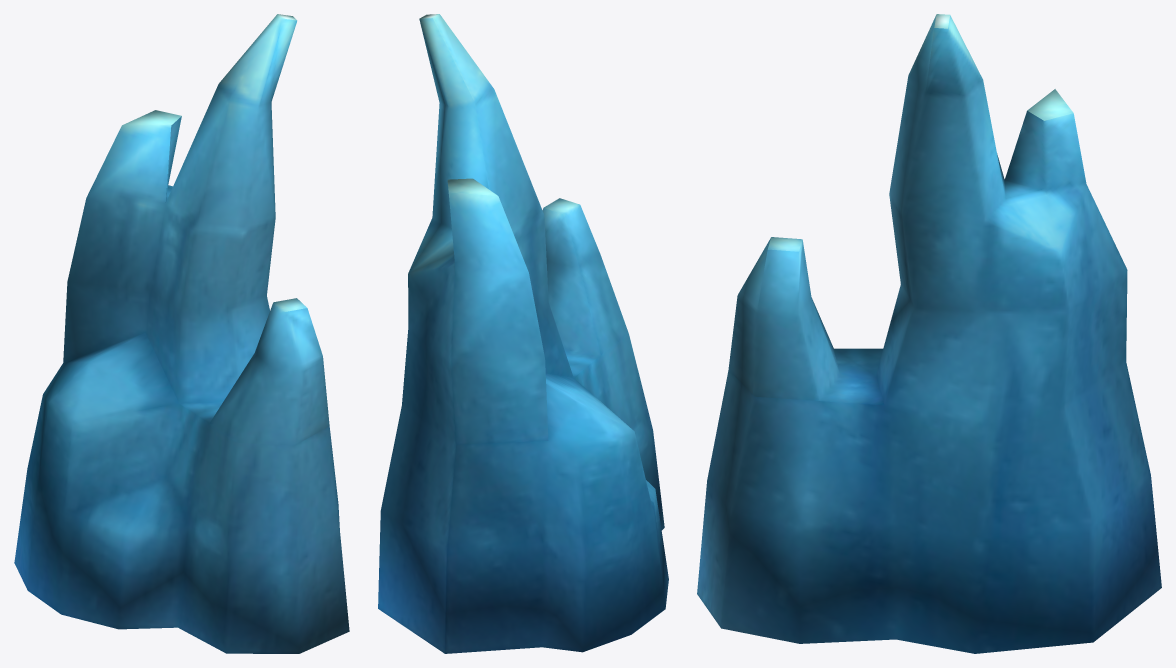
The model's file is Stage_BingYuan_BingLing03.FBX.
3 renders of one model, left to right at view 1: azimuth 30°, elevation 25°; view 2: azimuth 150°, elevation 25°; view 3: azimuth 270°, elevation 25°, orthographic. The views are drawn at different scales.
Visible parts, largest first — view 1: Stage_BingYuan_BingLing03; view 2: Stage_BingYuan_BingLing03; view 3: Stage_BingYuan_BingLing03.
Part boxes in pixels (left/top/right/bottom): Stage_BingYuan_BingLing03: left=14, top=14, right=349, bottom=653; Stage_BingYuan_BingLing03: left=378, top=14, right=668, bottom=653; Stage_BingYuan_BingLing03: left=697, top=14, right=1161, bottom=653.
Bounding box in the file's own units: 116 × 251 × 167.
